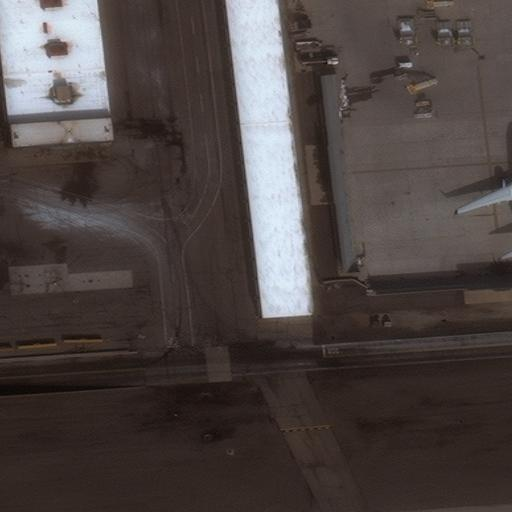Medium Civil Transport: (455, 137, 511, 242)
